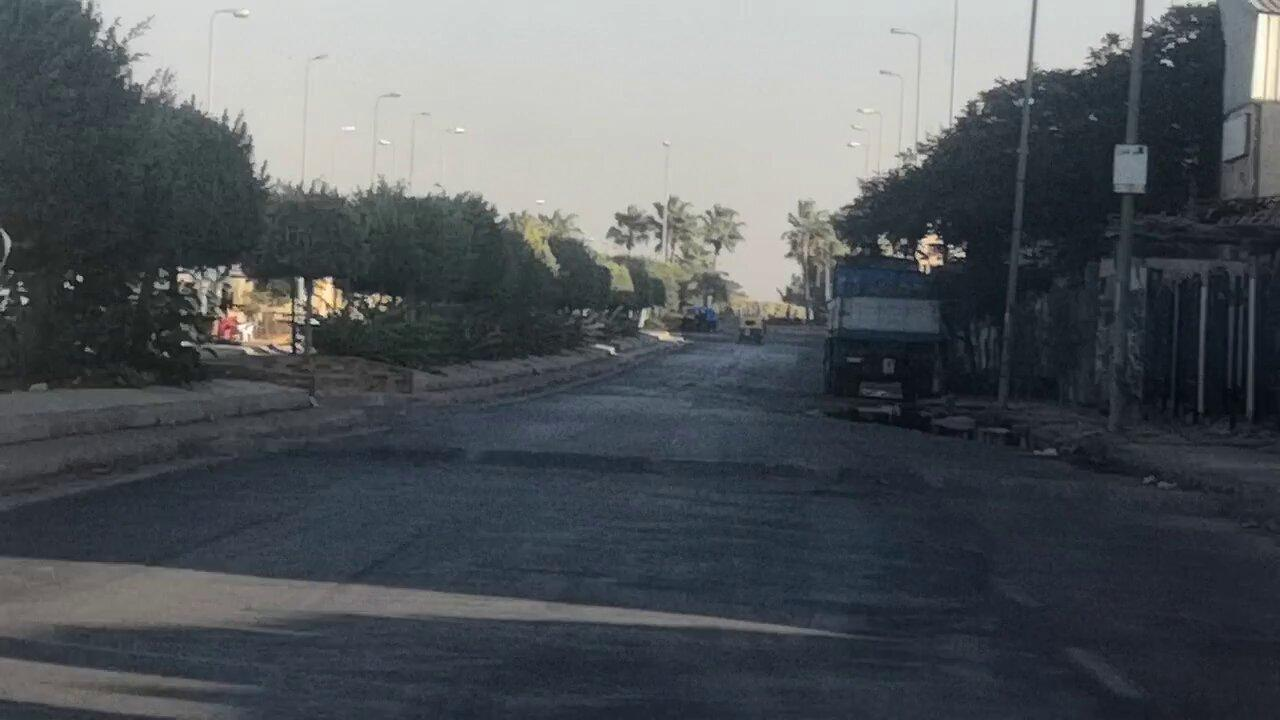Bump: (278, 437, 1198, 513)
